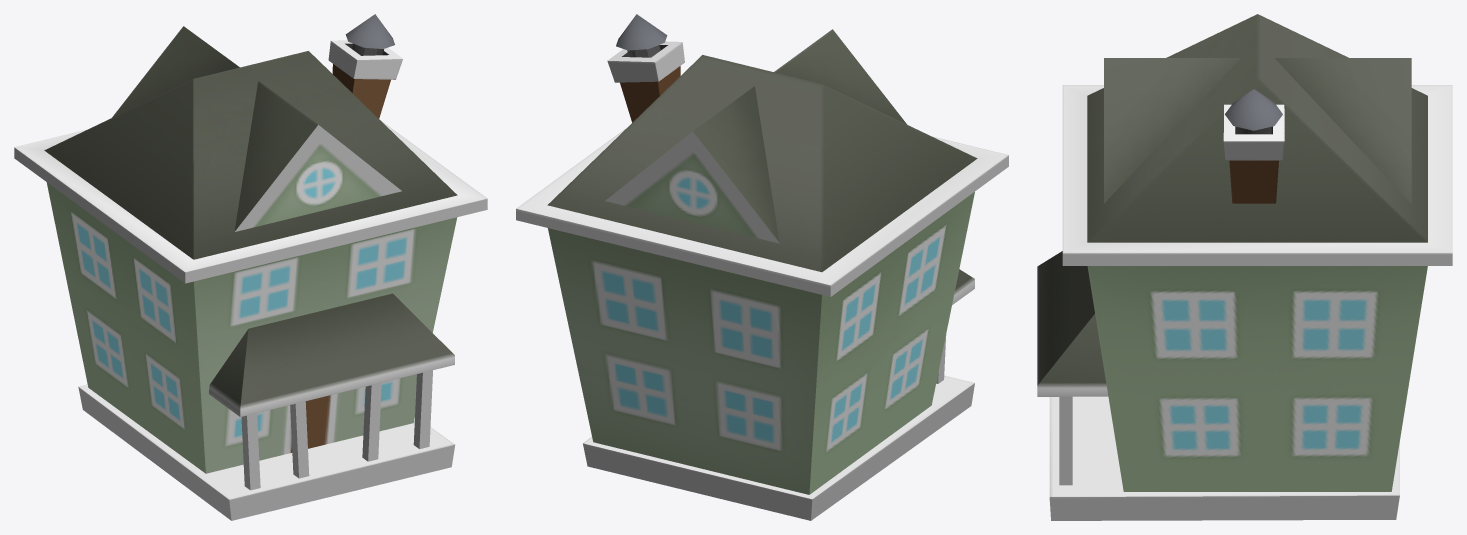
File: house.FBX
3 renders of one model, left to right at view 1: azimuth 30°, elevation 25°; view 2: azimuth 150°, elevation 25°; view 3: azimuth 270°, elevation 25°, orthographic. The views are drawn at different scales.
Visible parts, largest first — view 1: house; view 2: house; view 3: house.
Part boxes in pixels (left/top/right/bottom): house: left=14, top=14, right=487, bottom=520; house: left=516, top=14, right=1008, bottom=520; house: left=1037, top=14, right=1452, bottom=520.
Bounding box in the file's own units: 31.03 × 37.78 × 32.39.
